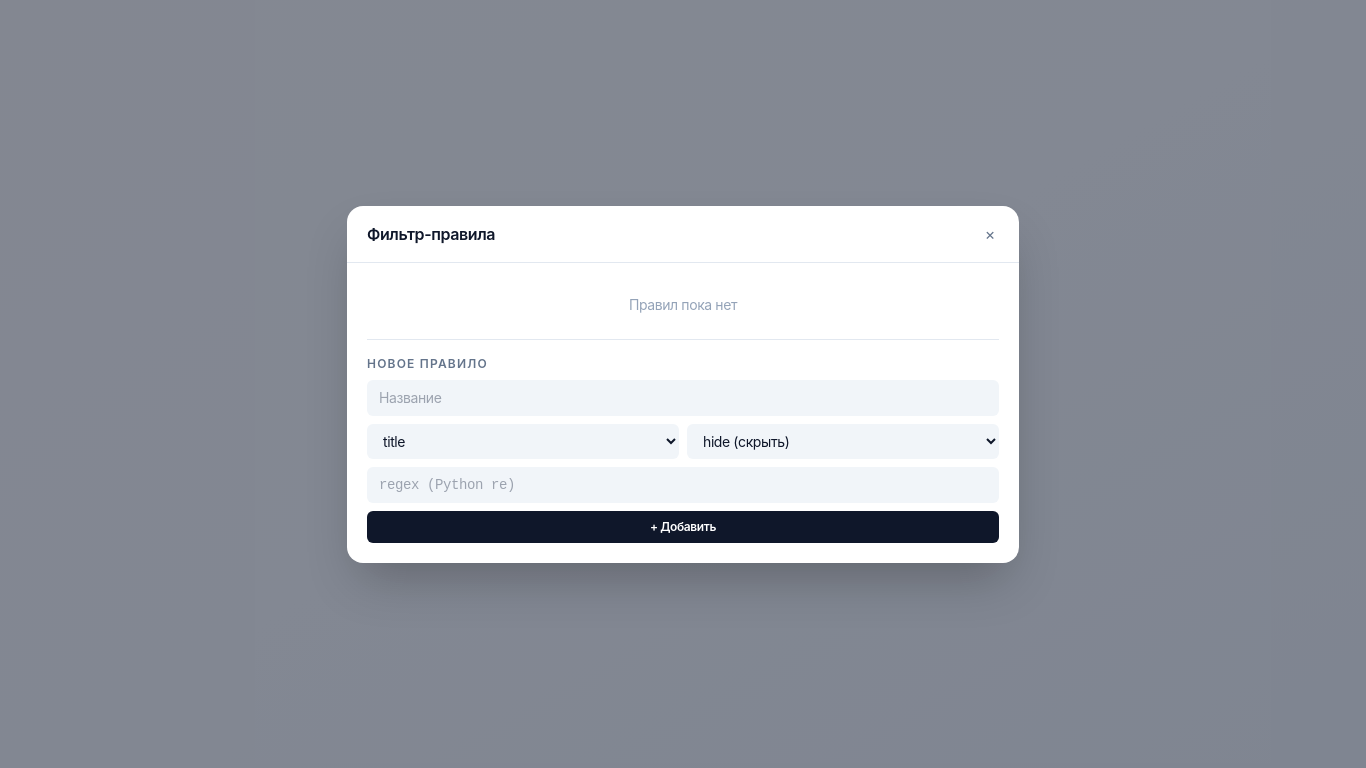
RulesPanel.vue › validates required fields before submitting a new rule
The image size is (1366, 768).
# Hit submit without typing anything.
What coordinates should you click on to do the following:
click the button with test id "rules-new-submit"
I would click on:
 (683, 526)
Its box is [367,510,999,542].
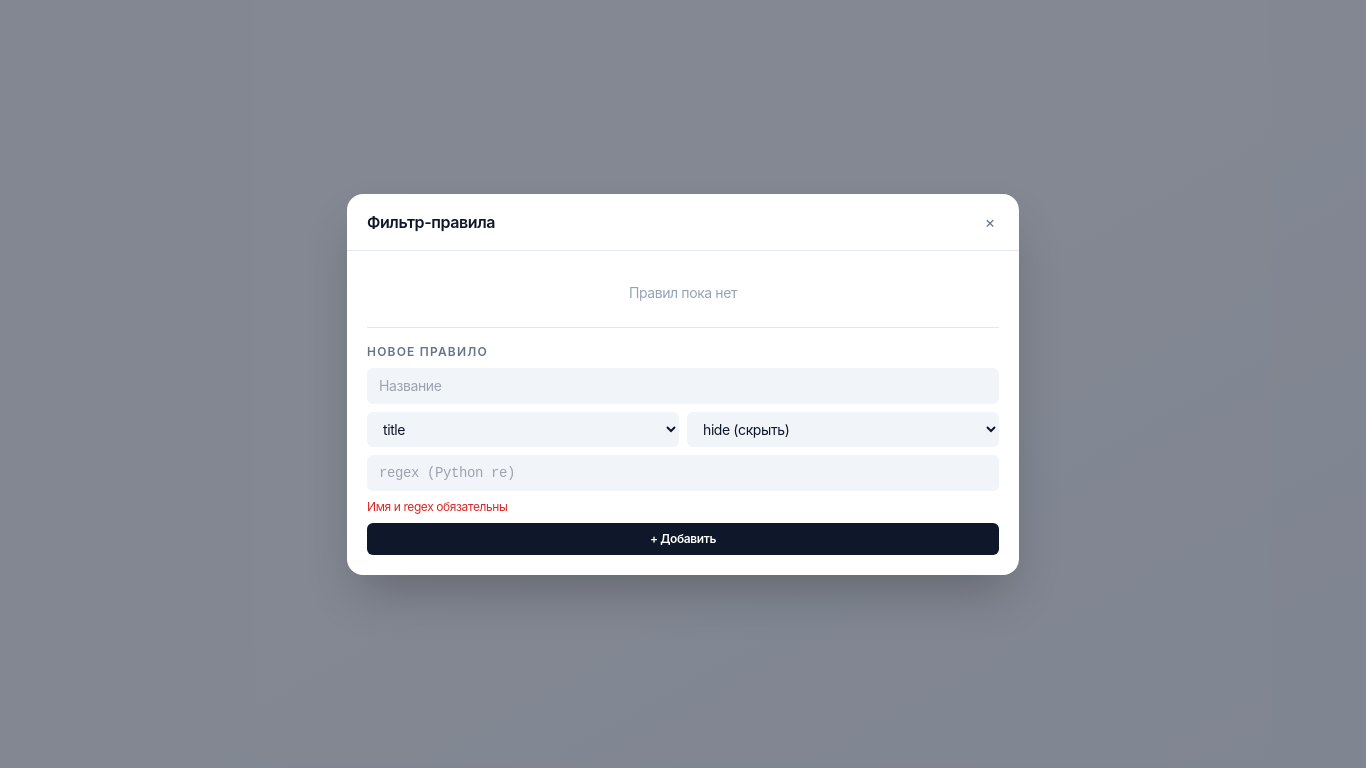
Expected: the text with test id "rules-new-error" reads "Имя и regex обязательны", [367,498,507,514]
